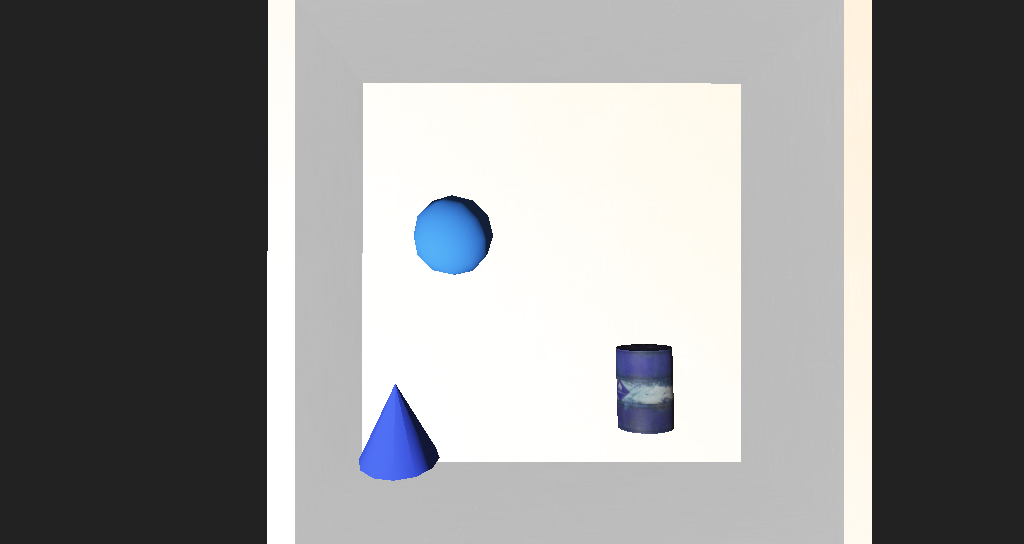cone: (552, 308, 606, 360)
cylinder: (347, 320, 421, 387)
sphere: (391, 227, 458, 270)
